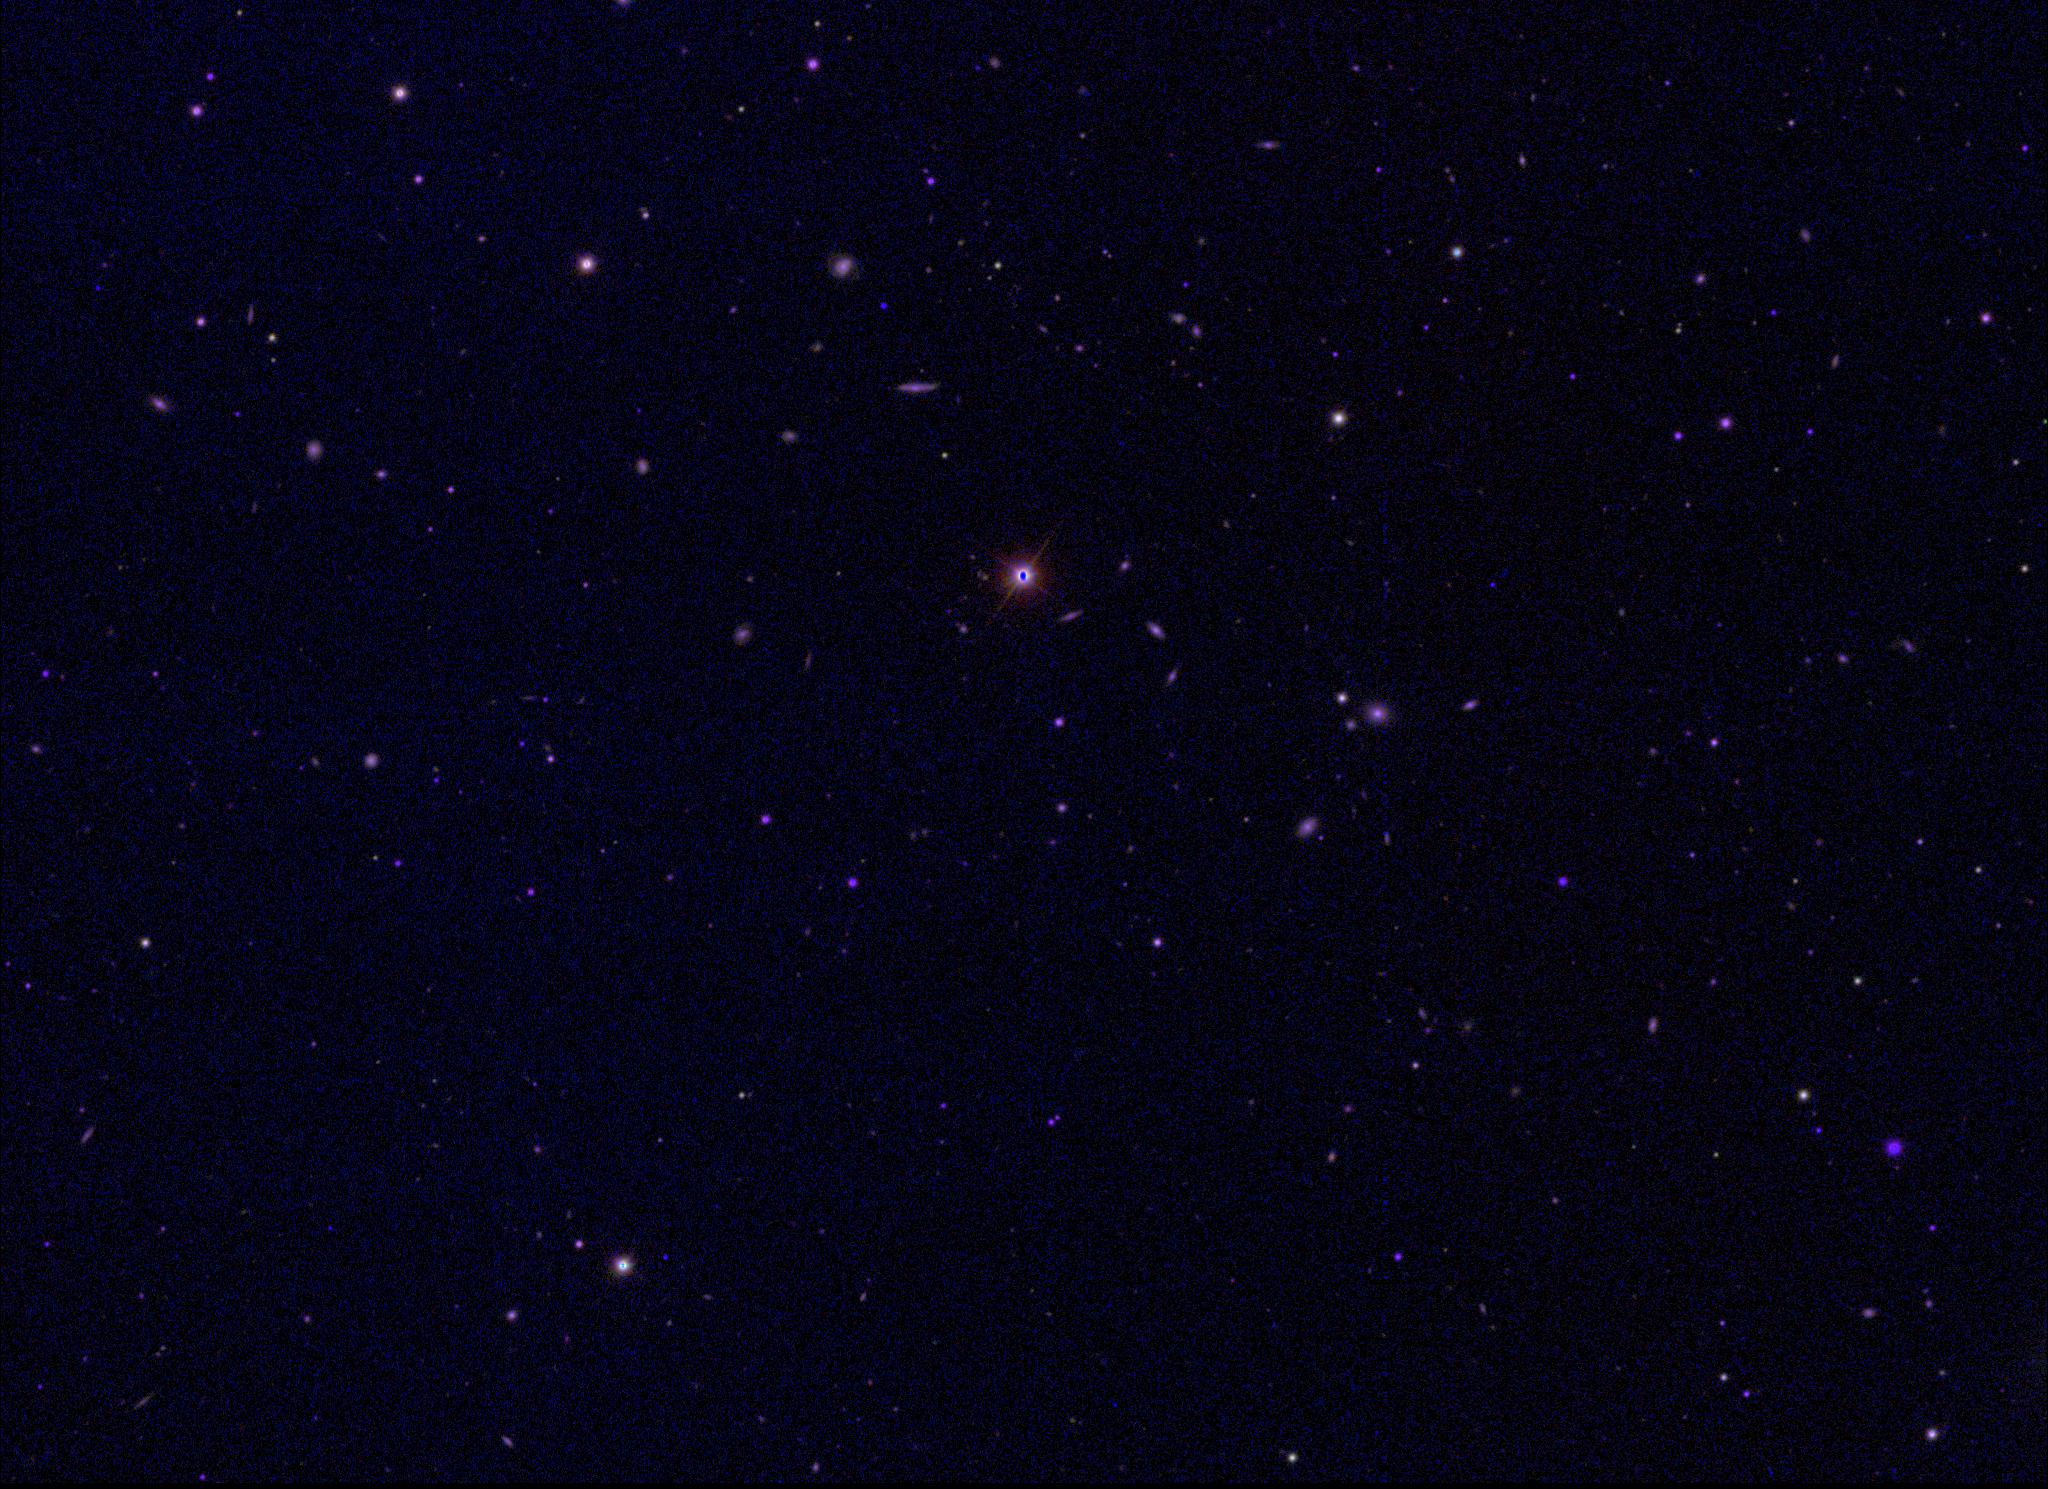L: (91, 282, 105, 294)
